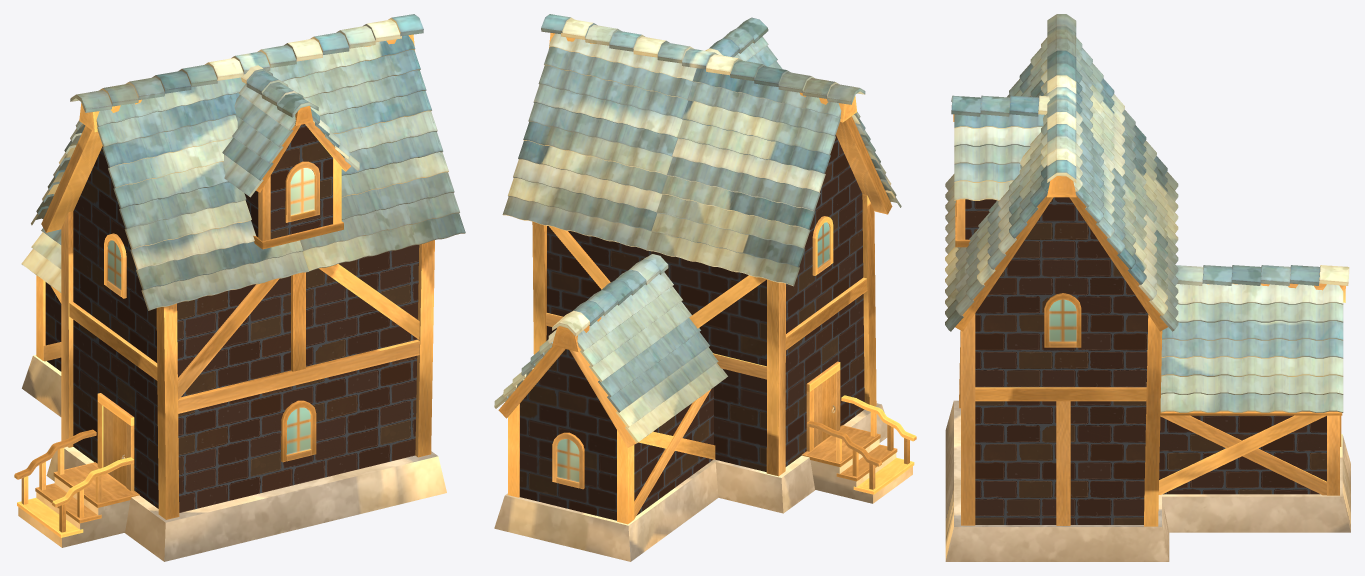
3 renders of one model, left to right at view 1: azimuth 30°, elevation 25°; view 2: azimuth 150°, elevation 25°; view 3: azimuth 270°, elevation 25°, orthographic. The views are drawn at different scales.
Parts seen in each view (by area): view 1: SM_Mill_LOD0; view 2: SM_Mill_LOD0; view 3: SM_Mill_LOD0.
Boxes of the visible parts, x1=… form: SM_Mill_LOD0: x1=14, y1=14, x2=465, y2=561; SM_Mill_LOD0: x1=494, y1=14, x2=916, y2=561; SM_Mill_LOD0: x1=945, y1=14, x2=1350, y2=561.
Bounding box in the file's own units: 1179 × 1140 × 1257.
